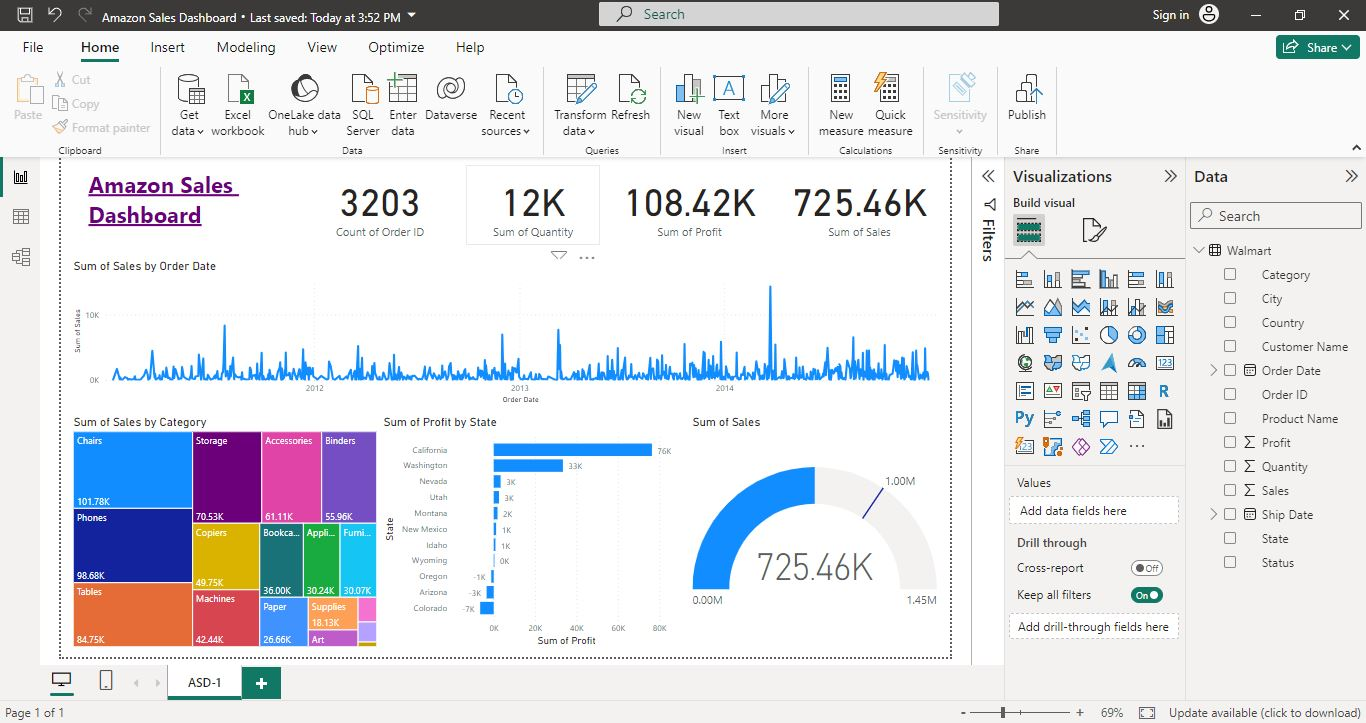

The dashboard page shown, as its layout file describes it:
{"tool":"powerbi","page":{"name":"ASD-1","canvas":[1280,720],"ordinal":0},"visuals":[{"type":"card","fields":{"Values":["Sum(Walmart.Sales)"]},"box":[1032.5,11.5,234.7,115.2],"z":0},{"type":"card","fields":{"Values":["Sum(Walmart.Quantity)"]},"box":[583.2,11.5,193,115.2],"z":1},{"type":"card","fields":{"Values":["Sum(Walmart.Profit)"]},"box":[793.4,11.5,223.2,115.2],"z":2},{"type":"card","fields":{"Values":["CountNonNull(Walmart.Order ID)"]},"box":[362.9,11.5,193,115.2],"z":3},{"type":"lineChart","fields":{"Category":["Walmart.Order Date"],"Y":["Sum(Walmart.Sales)"]},"box":[13,146.9,1254.2,213.1],"z":4},{"type":"treemap","fields":{"Group":["Walmart.Category"],"Values":["Sum(Walmart.Sales)"]},"box":[811.7,371.7,456.7,338.3],"z":5},{"type":"clusteredBarChart","fields":{"Category":["Walmart.State"],"Y":["Sum(Walmart.Profit)"]},"box":[13.3,371.7,446.7,338.3],"z":6},{"type":"gauge","fields":{"Y":["Sum(Walmart.Sales)"]},"box":[486.7,371.7,271.7,338.3],"z":7},{"type":"textbox","box":[34.6,11.5,266.4,115.2],"z":8}]}

Visuals, with their boxes on the page's 1280x720 design canvas (x1, y1, x2, y2). These are canvas units, not pixel positions in the 1366x723 screenshot, which may show the page scaled, cropped or inside an application window:
card - Sum(Walmart.Sales): [x1=1032, y1=12, x2=1267, y2=127]
card - Sum(Walmart.Quantity): [x1=583, y1=12, x2=776, y2=127]
card - Sum(Walmart.Profit): [x1=793, y1=12, x2=1017, y2=127]
card - CountNonNull(Walmart.Order ID): [x1=363, y1=12, x2=556, y2=127]
lineChart - Walmart.Order Date x Sum(Walmart.Sales): [x1=13, y1=147, x2=1267, y2=360]
treemap - Walmart.Category x Sum(Walmart.Sales): [x1=812, y1=372, x2=1268, y2=710]
clusteredBarChart - Walmart.State x Sum(Walmart.Profit): [x1=13, y1=372, x2=460, y2=710]
gauge - Sum(Walmart.Sales): [x1=487, y1=372, x2=758, y2=710]
textbox: [x1=35, y1=12, x2=301, y2=127]
